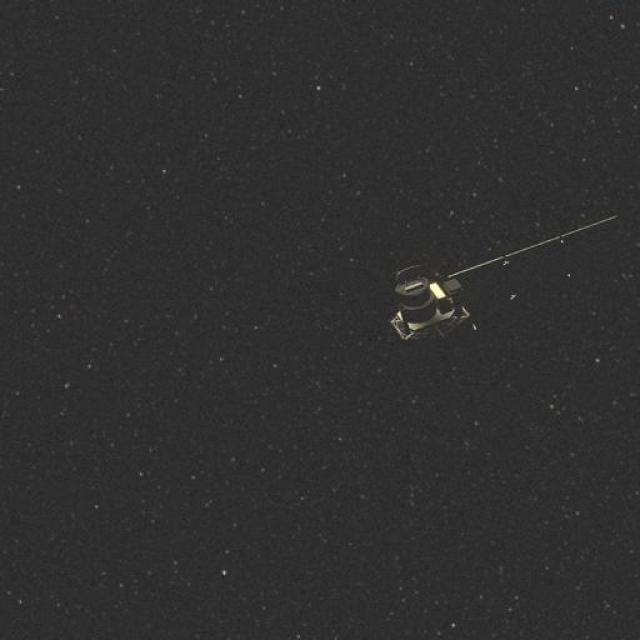earth_observation_sat_1: (363, 207, 630, 366)
